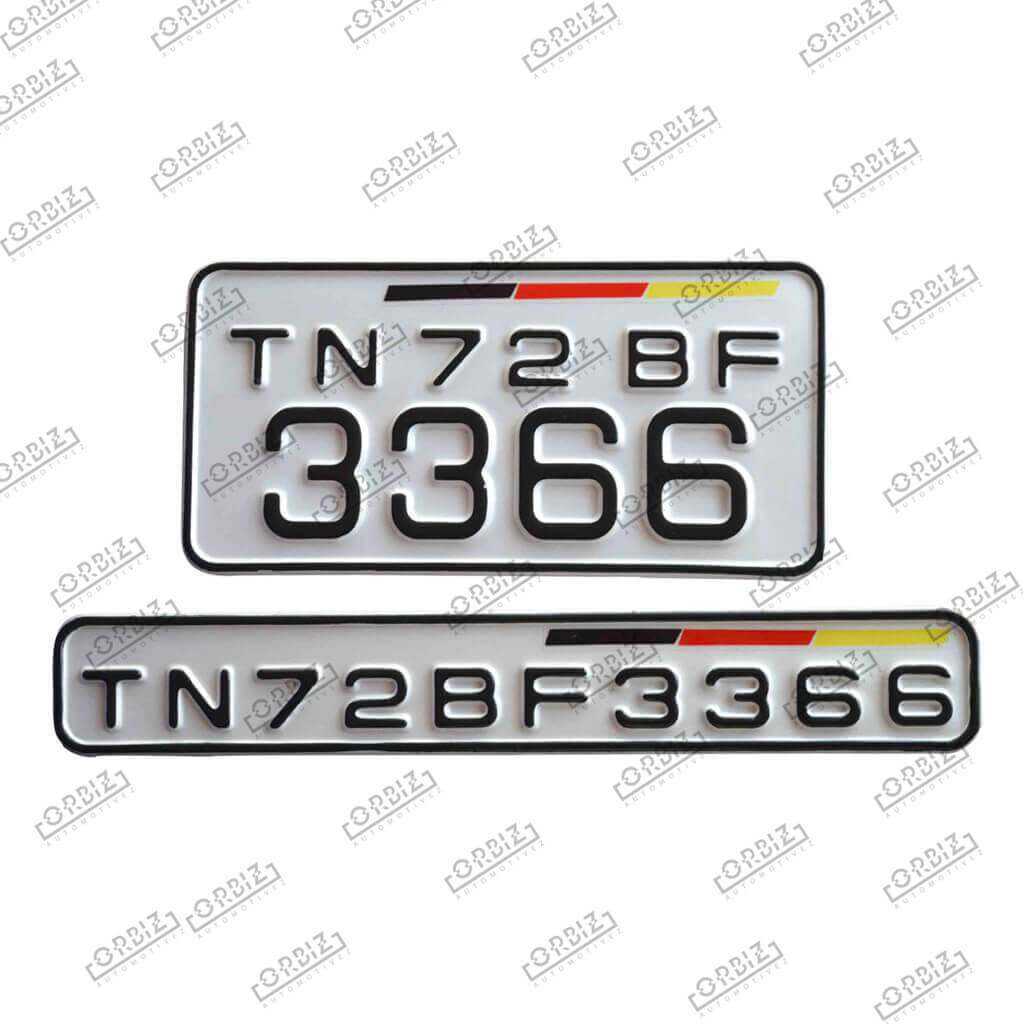number_plate: (183, 262, 826, 577), (53, 617, 982, 756)
